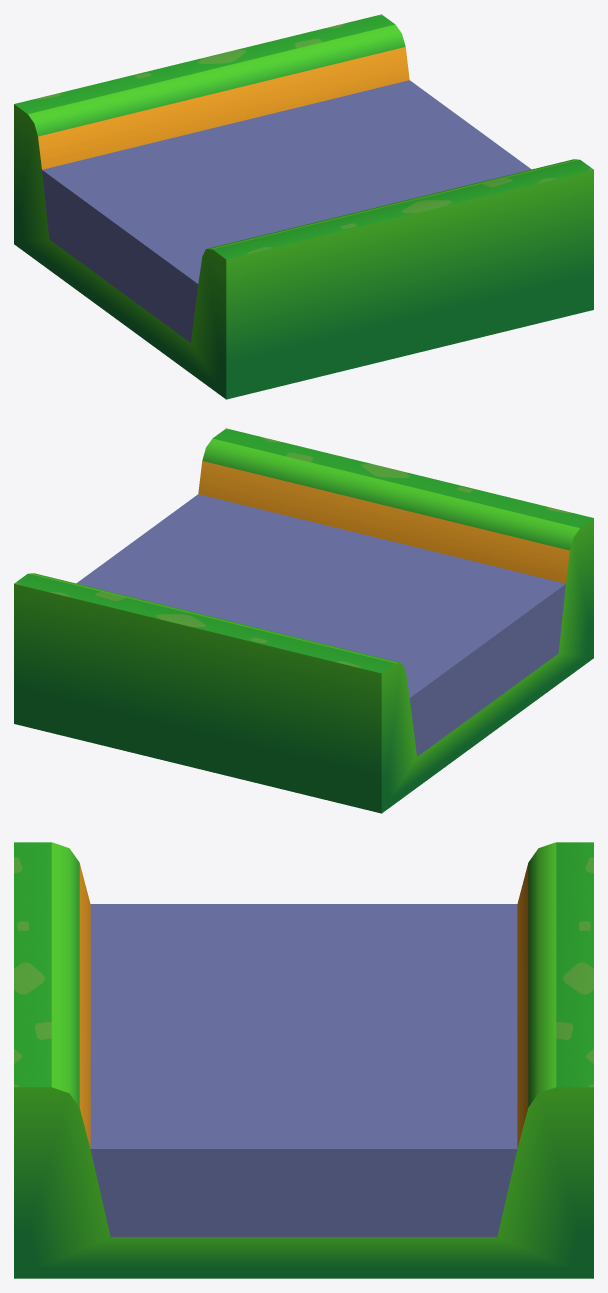
The model's file is RiverTile_1_2.glb.
3 renders of one model, top to bottom at view 1: azimuth 30°, elevation 25°; view 2: azimuth 150°, elevation 25°; view 3: azimuth 270°, elevation 25°, orthographic. The views are drawn at different scales.
Parts seen in each view (by area): view 1: RiverTile_1_2; view 2: RiverTile_1_2; view 3: RiverTile_1_2.
Part boxes in pixels (x1=…): RiverTile_1_2: x1=14, y1=14, x2=593, y2=399; RiverTile_1_2: x1=14, y1=428, x2=593, y2=813; RiverTile_1_2: x1=14, y1=842, x2=593, y2=1278.
Bounding box in the file's own units: 4 × 1.46 × 4.
4 materials, 4 textured.
